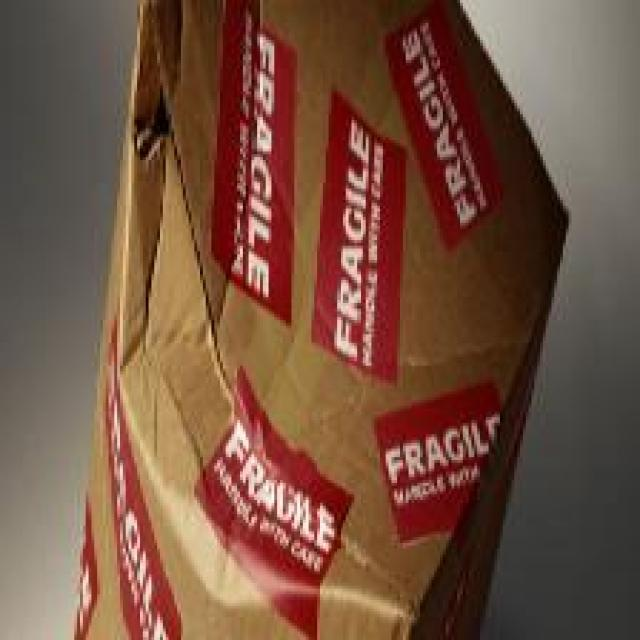box: (72, 3, 574, 640)
crushed: (121, 404, 437, 634), (107, 5, 229, 394)
